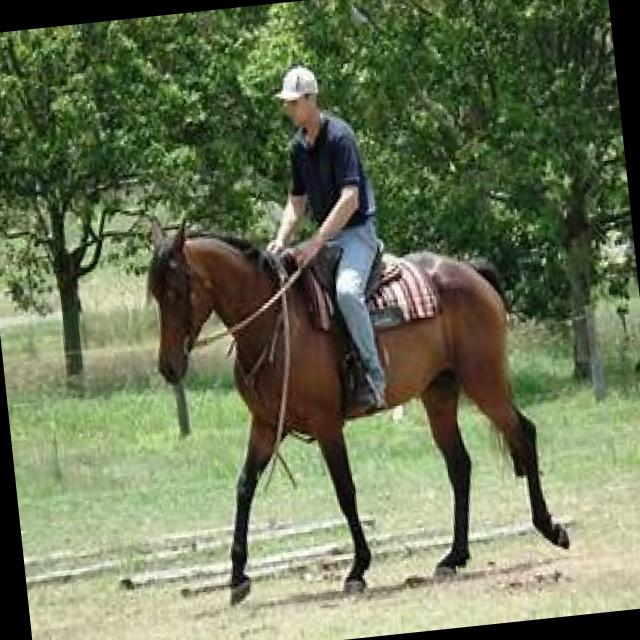animal: (118, 155, 584, 620)
